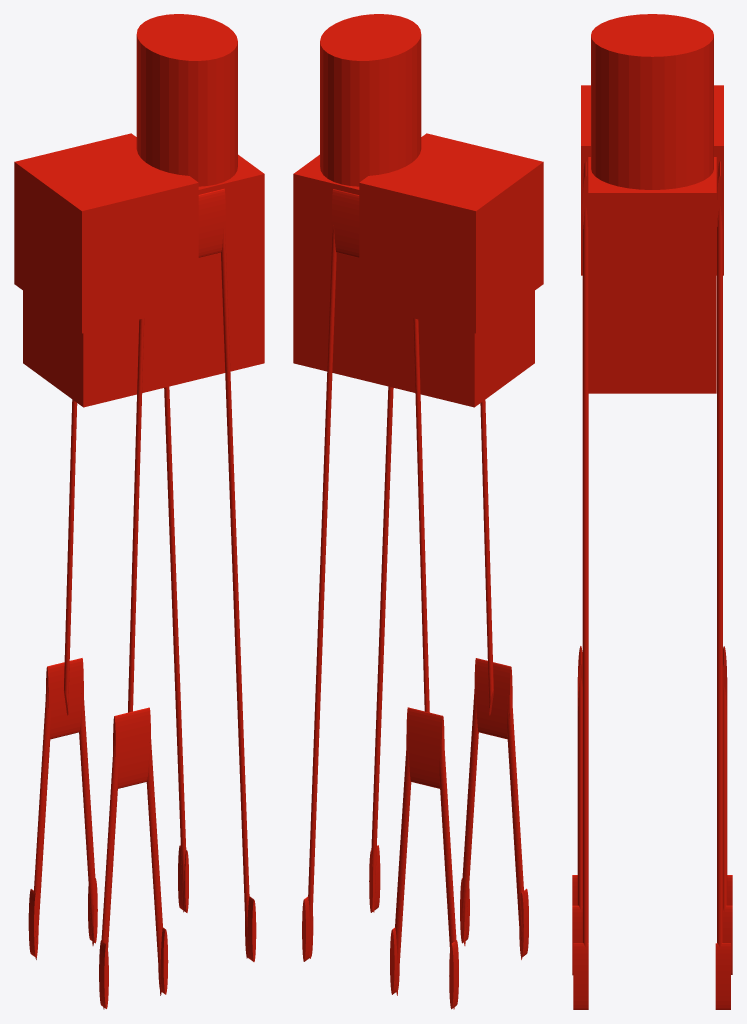
The picture shows the model from 3 angles, left to right: view 1: azimuth 30°, elevation 25°; view 2: azimuth 150°, elevation 25°; view 3: azimuth 270°, elevation 25°; orthographic projection. The views are drawn at different scales.
Parts seen in each view (by area): view 1: tmp_export_Cube.060; view 2: tmp_export_Cube.060; view 3: tmp_export_Cube.060.
Part boxes in pixels (left/top/right/bottom): tmp_export_Cube.060: left=14, top=14, right=264, bottom=1009; tmp_export_Cube.060: left=293, top=14, right=543, bottom=1009; tmp_export_Cube.060: left=572, top=14, right=732, bottom=1009.
Size of the model in its own units: 3.18 by 2.24 by 15.02.
